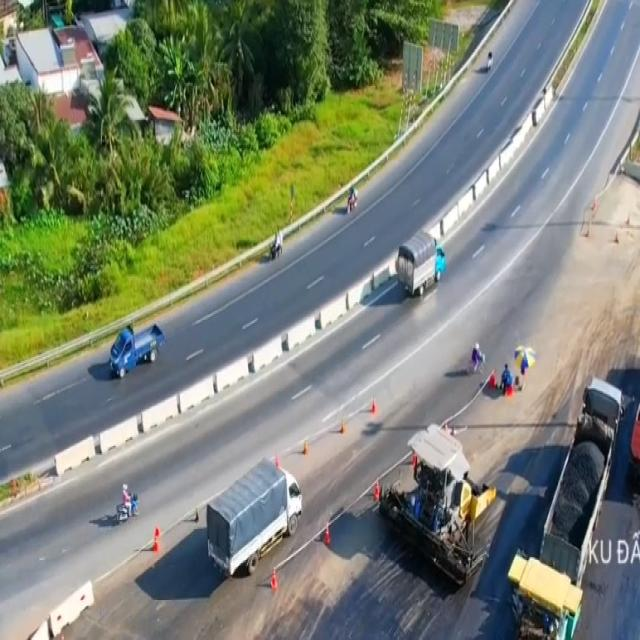motorbike: (113, 478, 142, 532), (268, 226, 284, 262), (344, 183, 360, 217)
truck: (203, 455, 302, 576), (109, 321, 167, 384), (396, 231, 444, 301)
